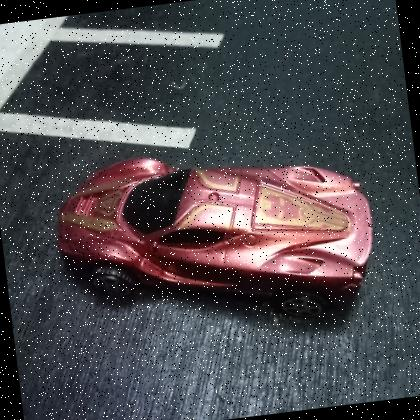Car: (45, 128, 386, 351)
